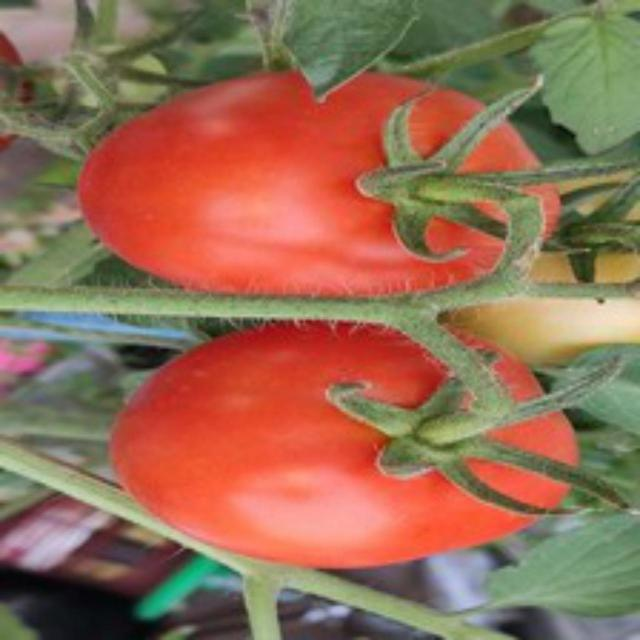tomato: (60, 64, 555, 309), (111, 330, 599, 567)
